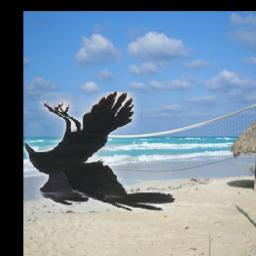Crow: (25, 93, 175, 213)
